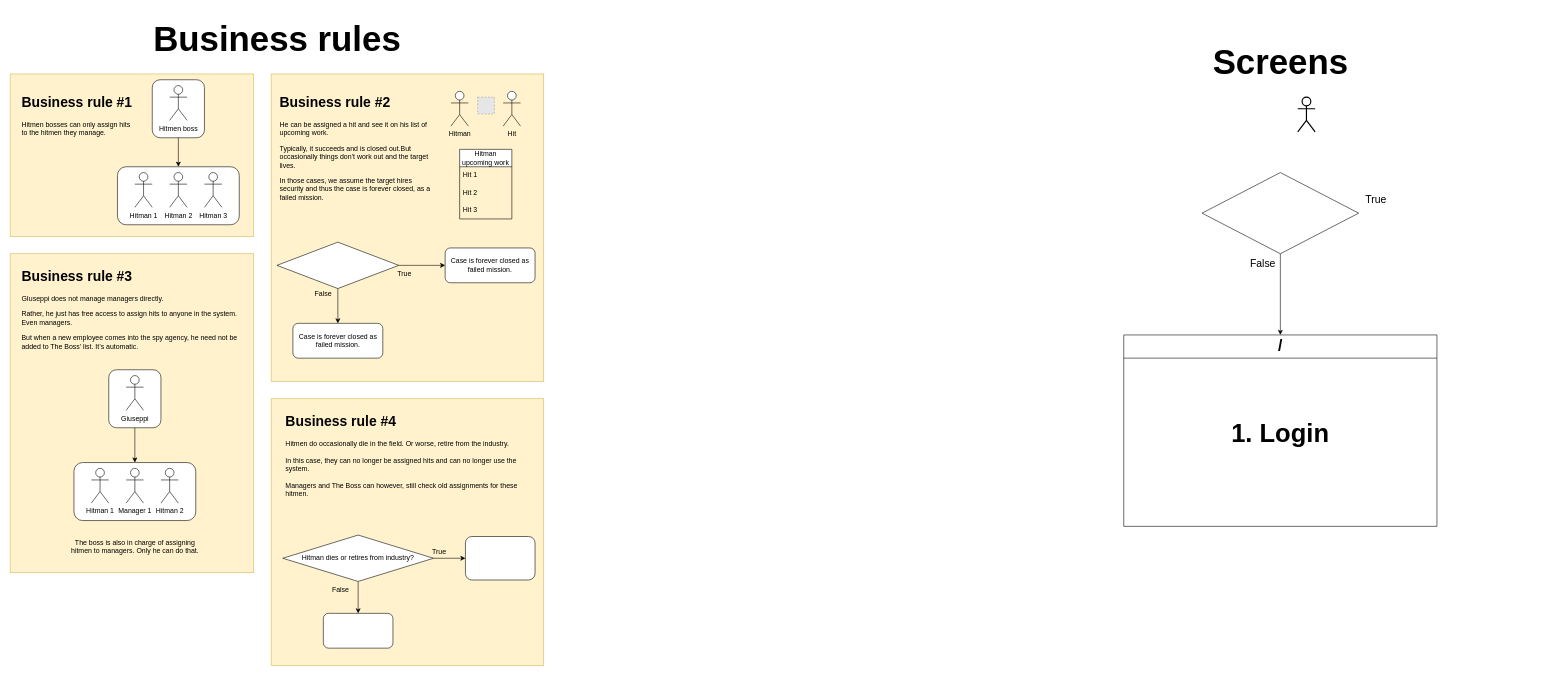
This 1552x676 diagram has some shape labels left out. Grey dashed boxes stand in for pictures. The centre of each missing label's shape, as x and y in pixels:
"Hitman is available." goes at (358,630).
"Hitman is not available, but assignments are available" goes at (500,558).
"Hitman succeeds killing hit?" goes at (337,265).
"is logged in?" goes at (1280,213).
